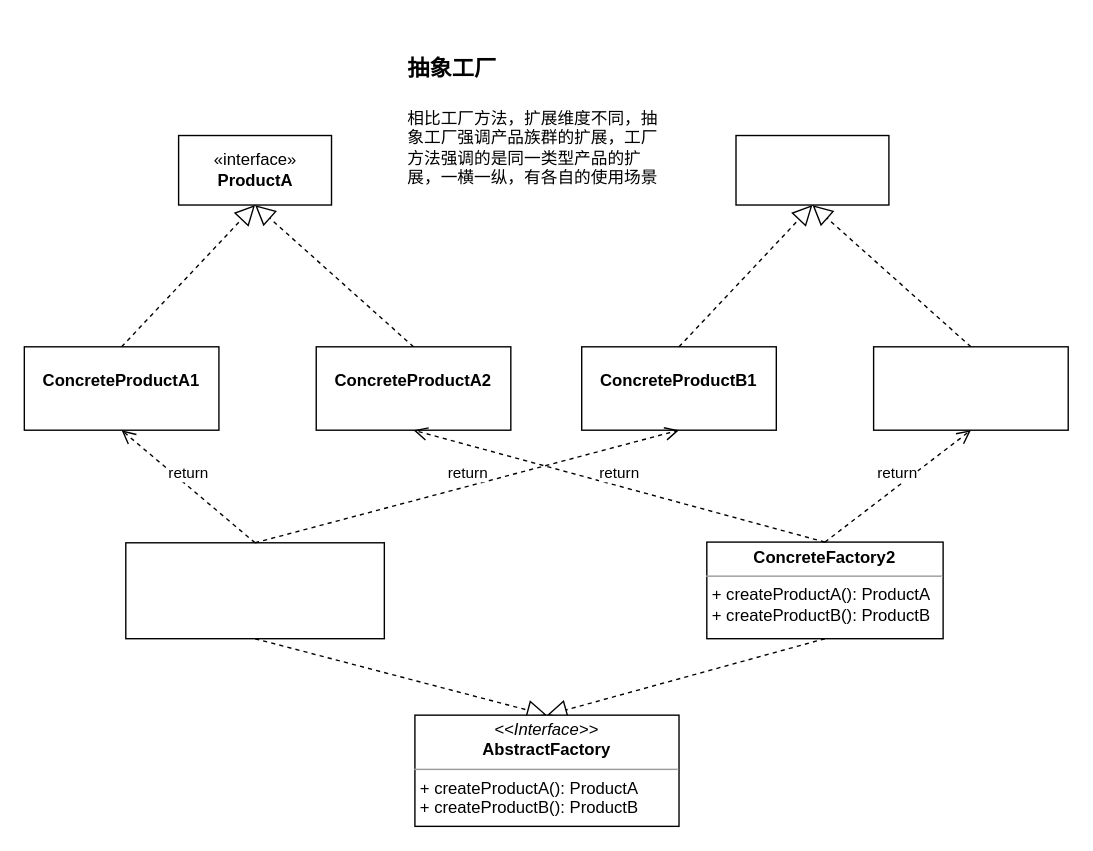
This 1093x851 diagram has some shape labels left out. The shapes that lost their labels are listed below. From the top down, each one's box as (x1, y1, x2, y2) in pixels, then its label:
(735, 134, 889, 205): «interface» ProductB
(872, 345, 1068, 430): ConcreteProductB2
(124, 541, 384, 639): ConcreteFactory1 + createProductA(): ProductA + createProductB(): ProductB
